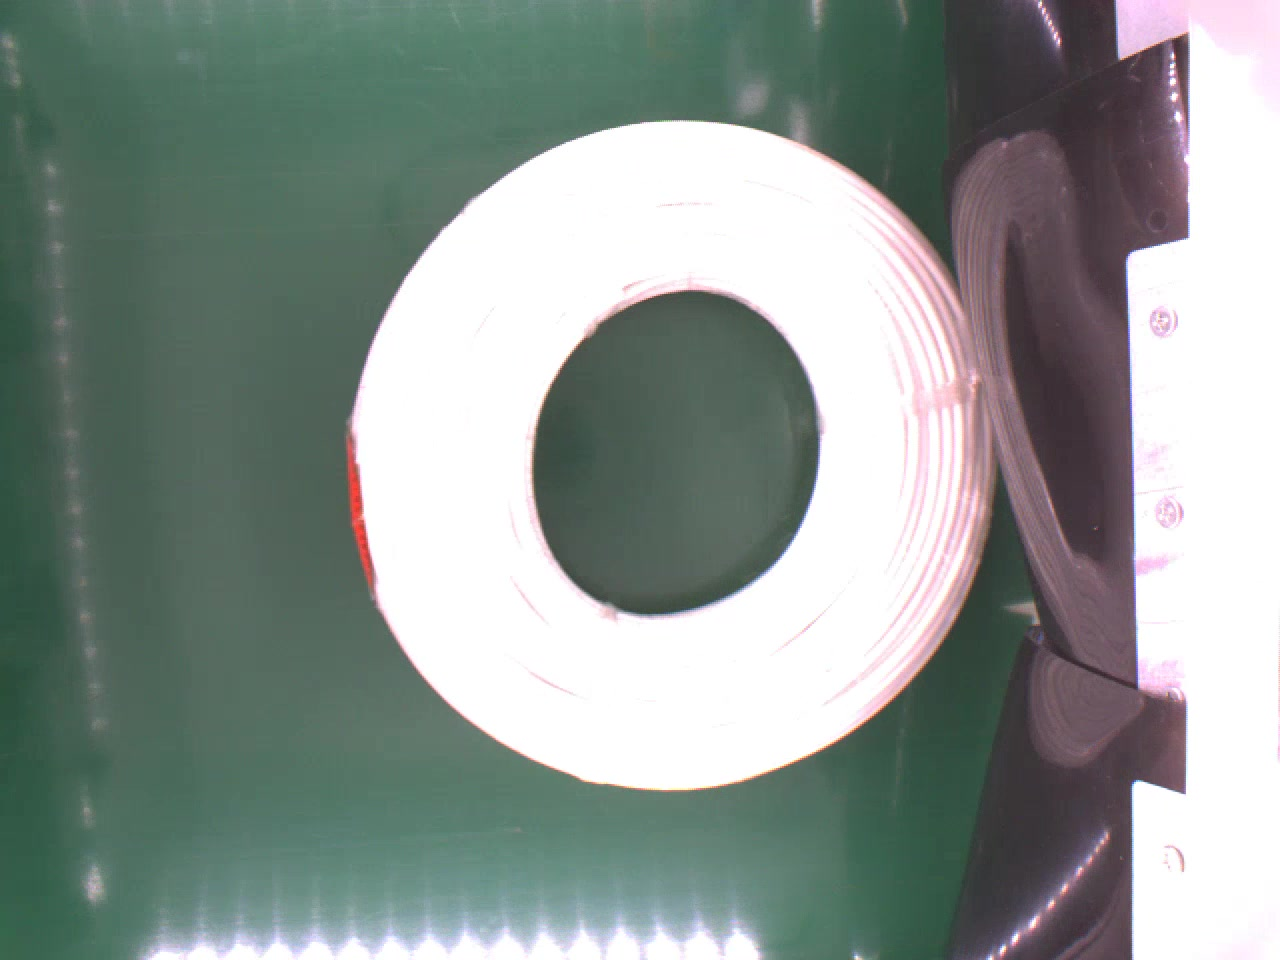white: (341, 120, 1000, 797)
